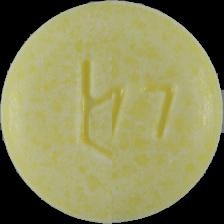51285-131: (0, 0, 224, 224)
